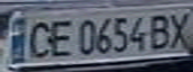0: (75, 16, 96, 56)
4: (127, 12, 154, 53)
5: (112, 13, 133, 55)
6: (93, 15, 115, 56)
B: (145, 11, 175, 52)
C: (21, 17, 57, 61)
E: (45, 16, 75, 60)
X: (163, 9, 193, 51)
